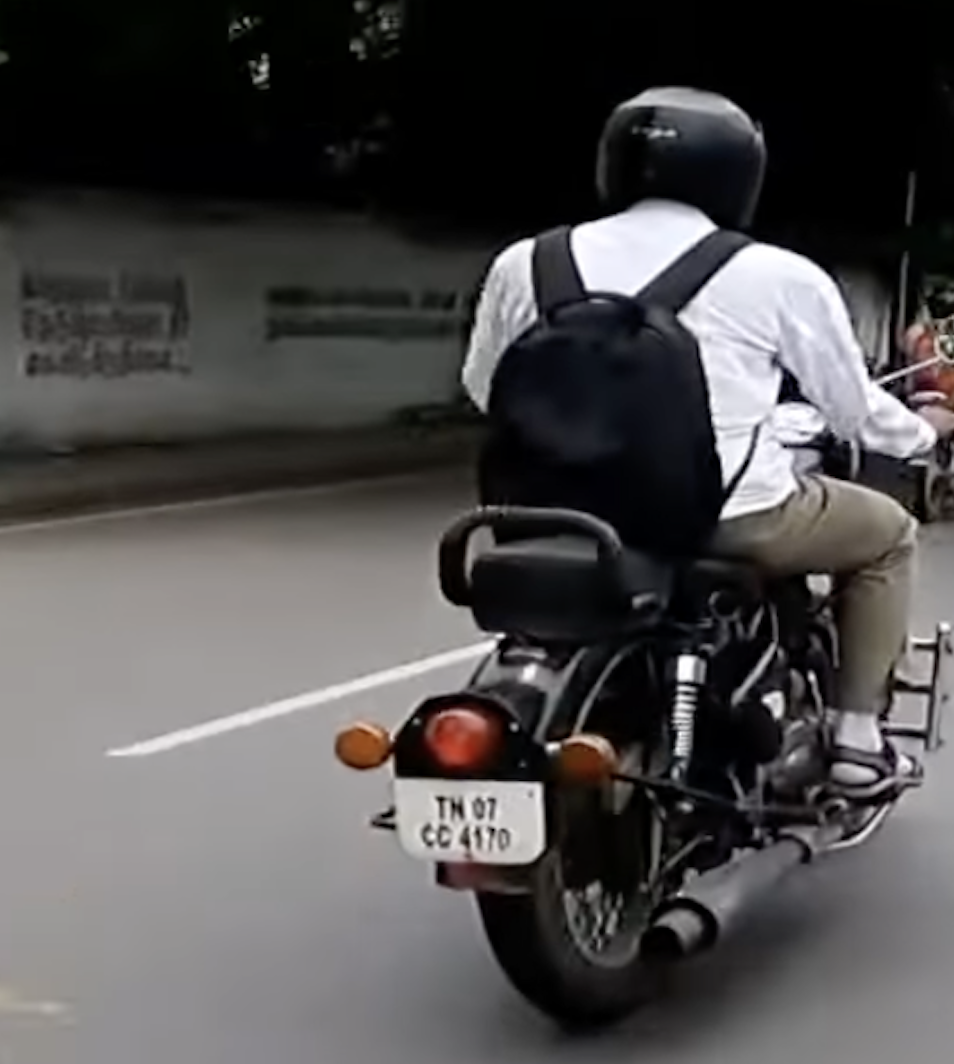motor: (355, 355, 954, 1019)
number: (394, 776, 548, 869)
with helmet: (597, 80, 762, 231)
